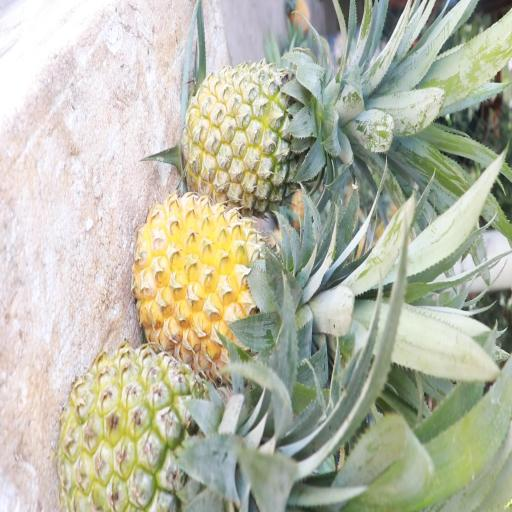------------------------------: (65, 344, 238, 512), (182, 58, 339, 210)
Pineapple - v8 v1: (132, 196, 313, 366)
